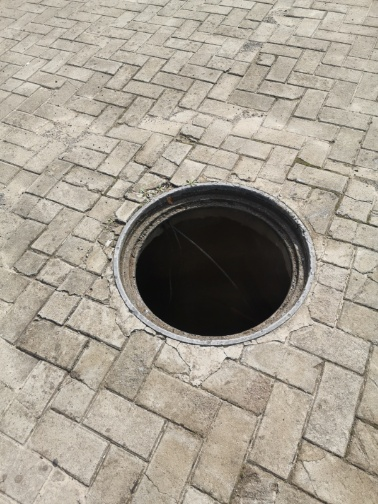lose: (113, 182, 316, 345)
